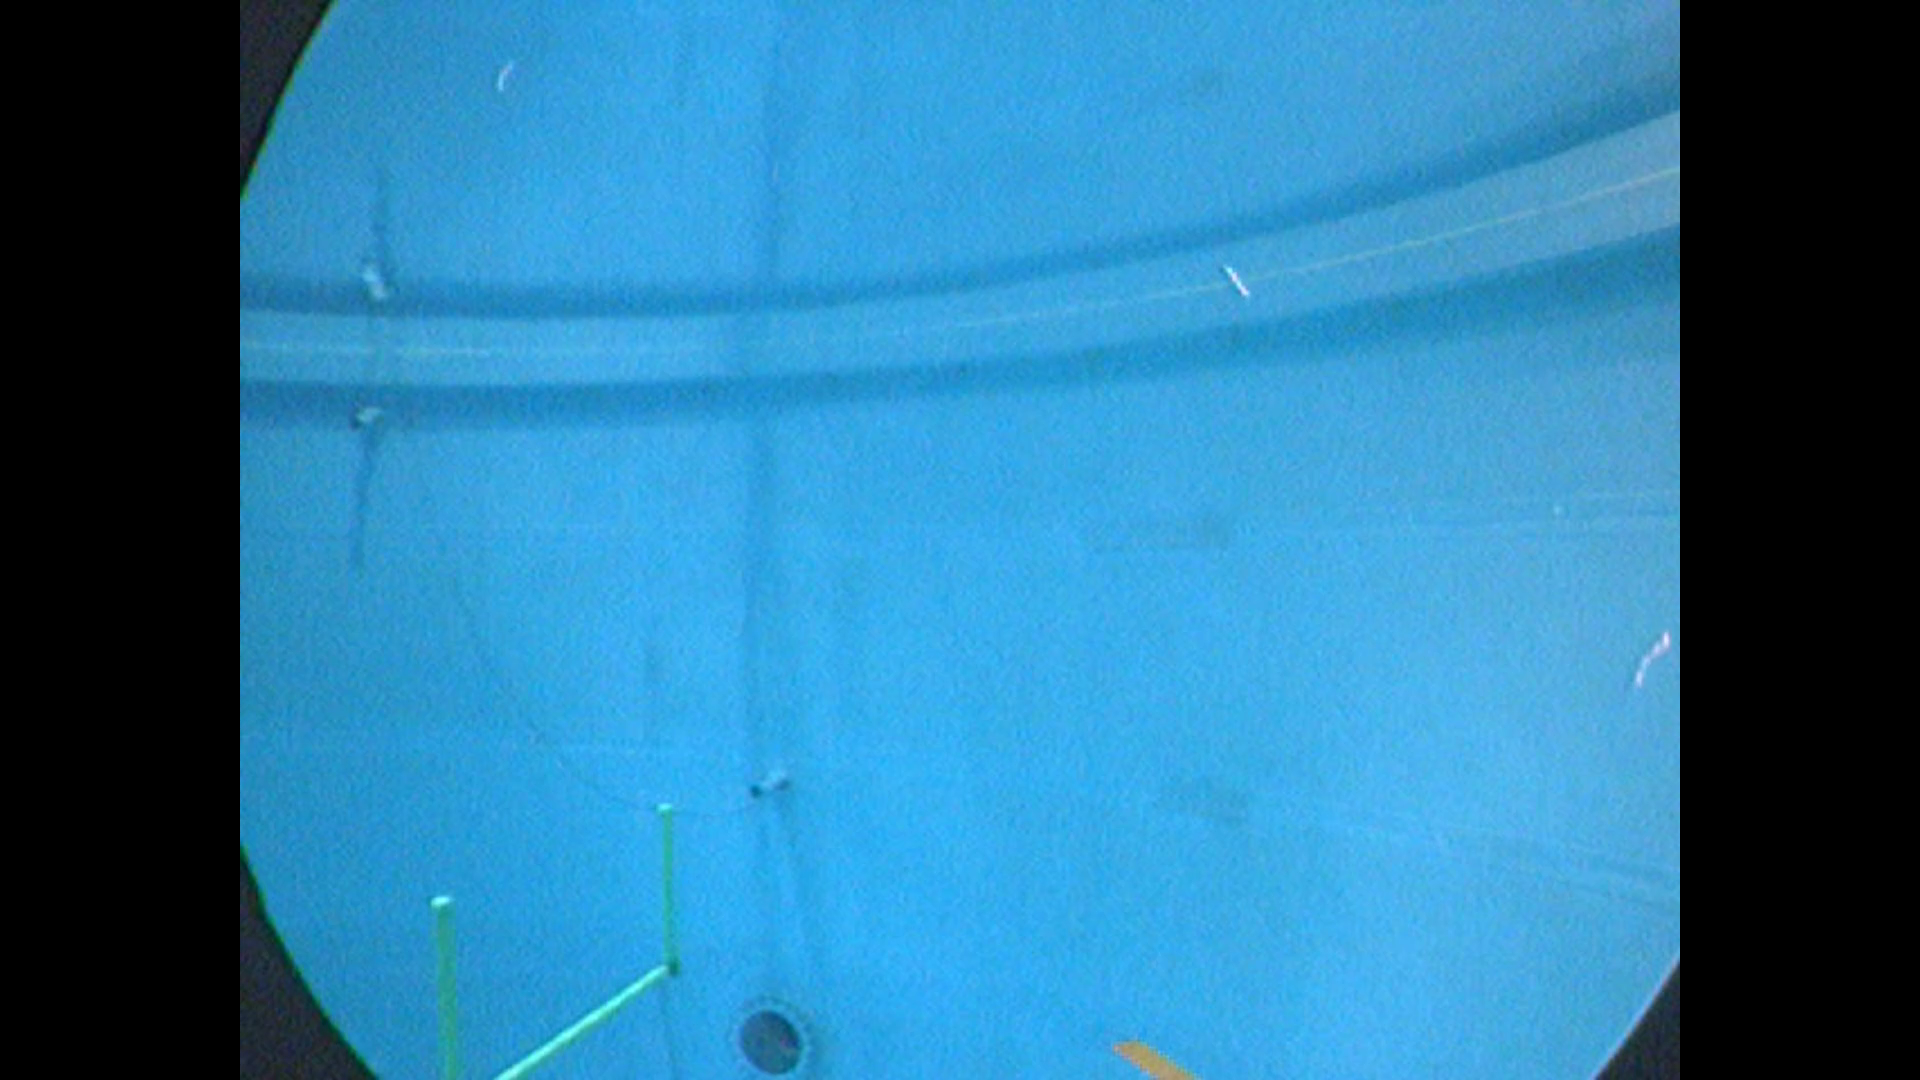gate: (431, 793, 691, 1080)
